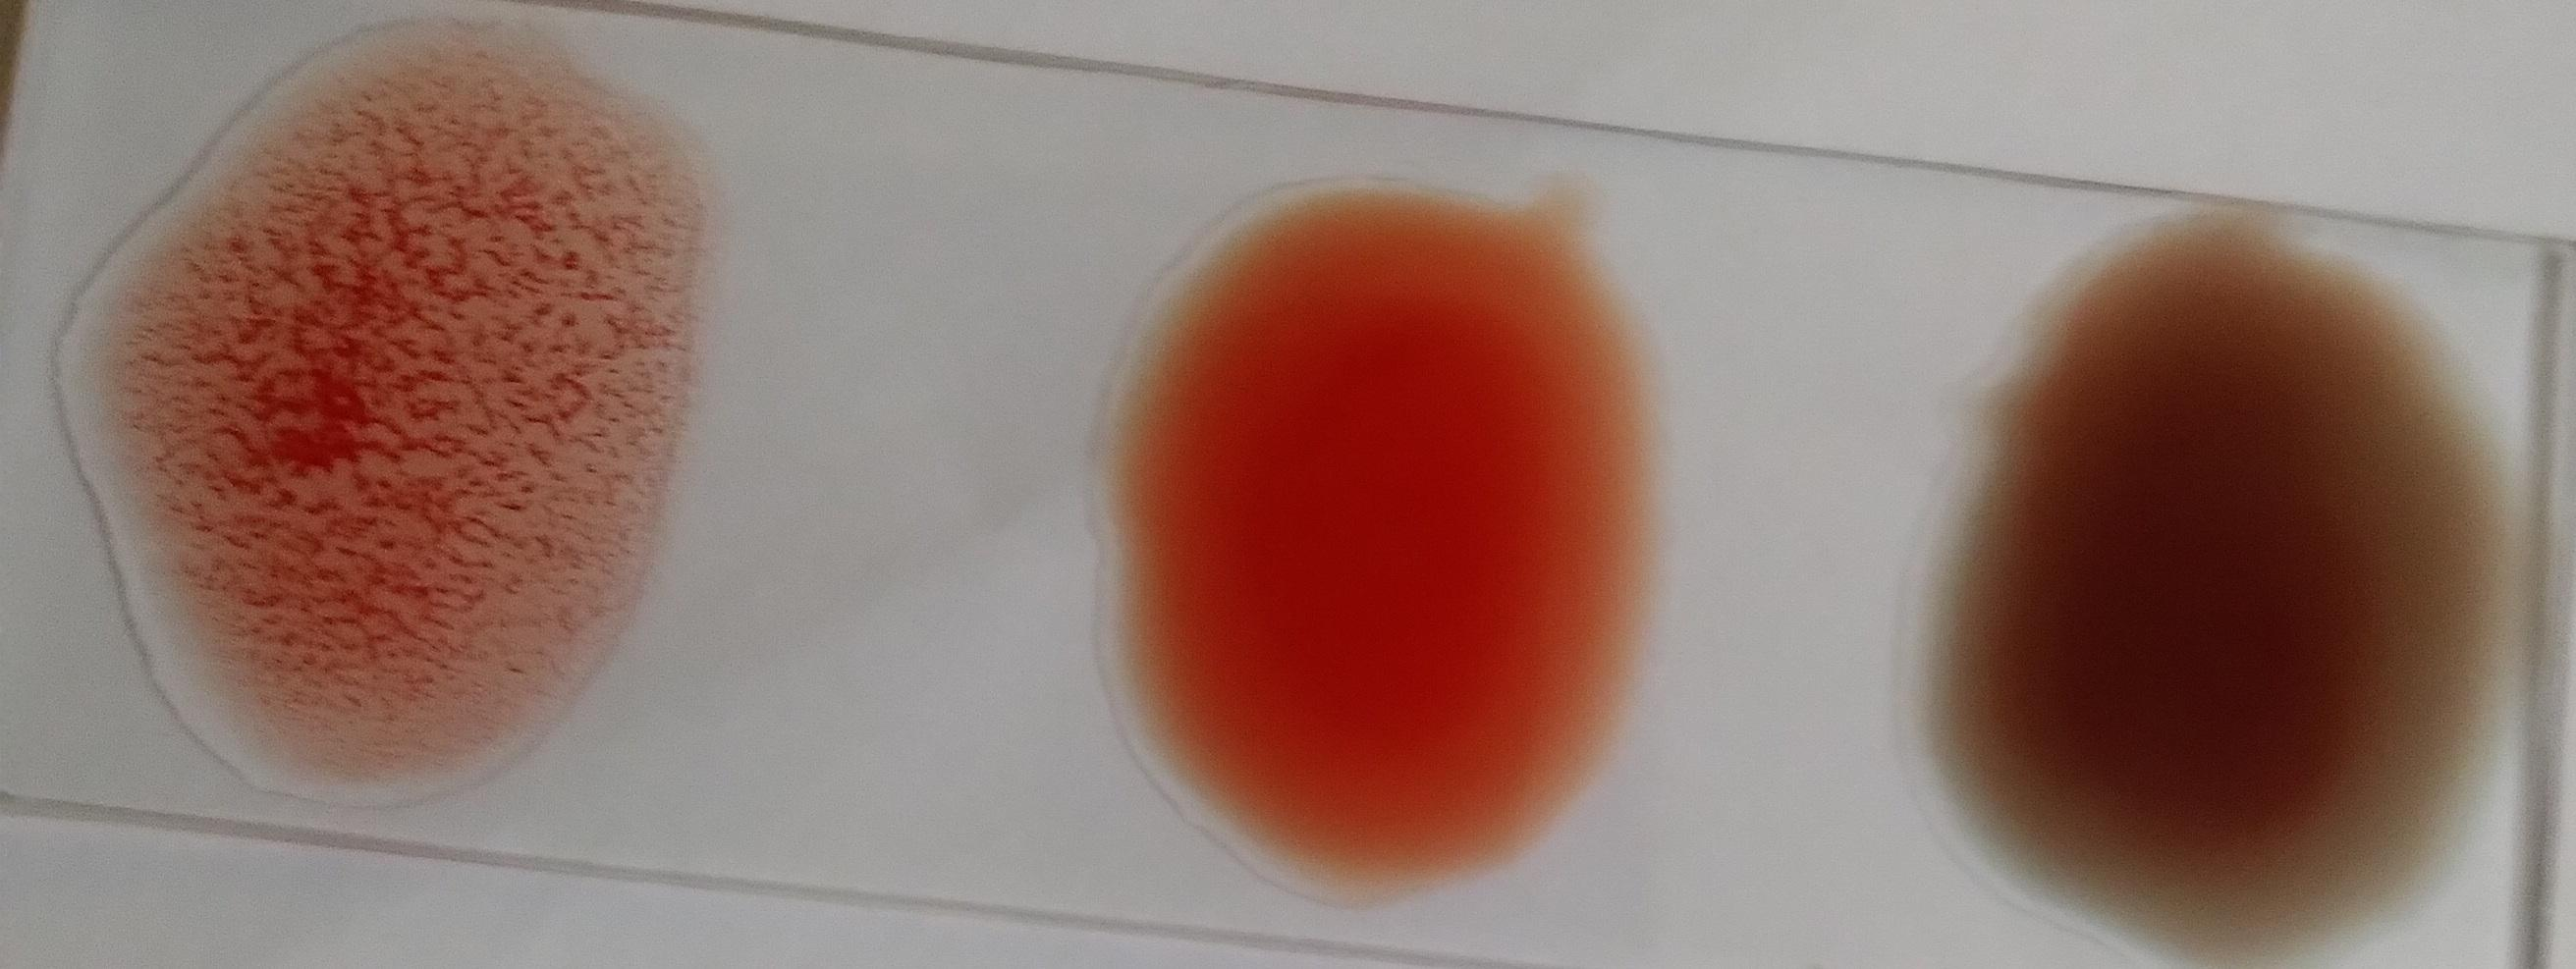D: (64, 25, 701, 792)
